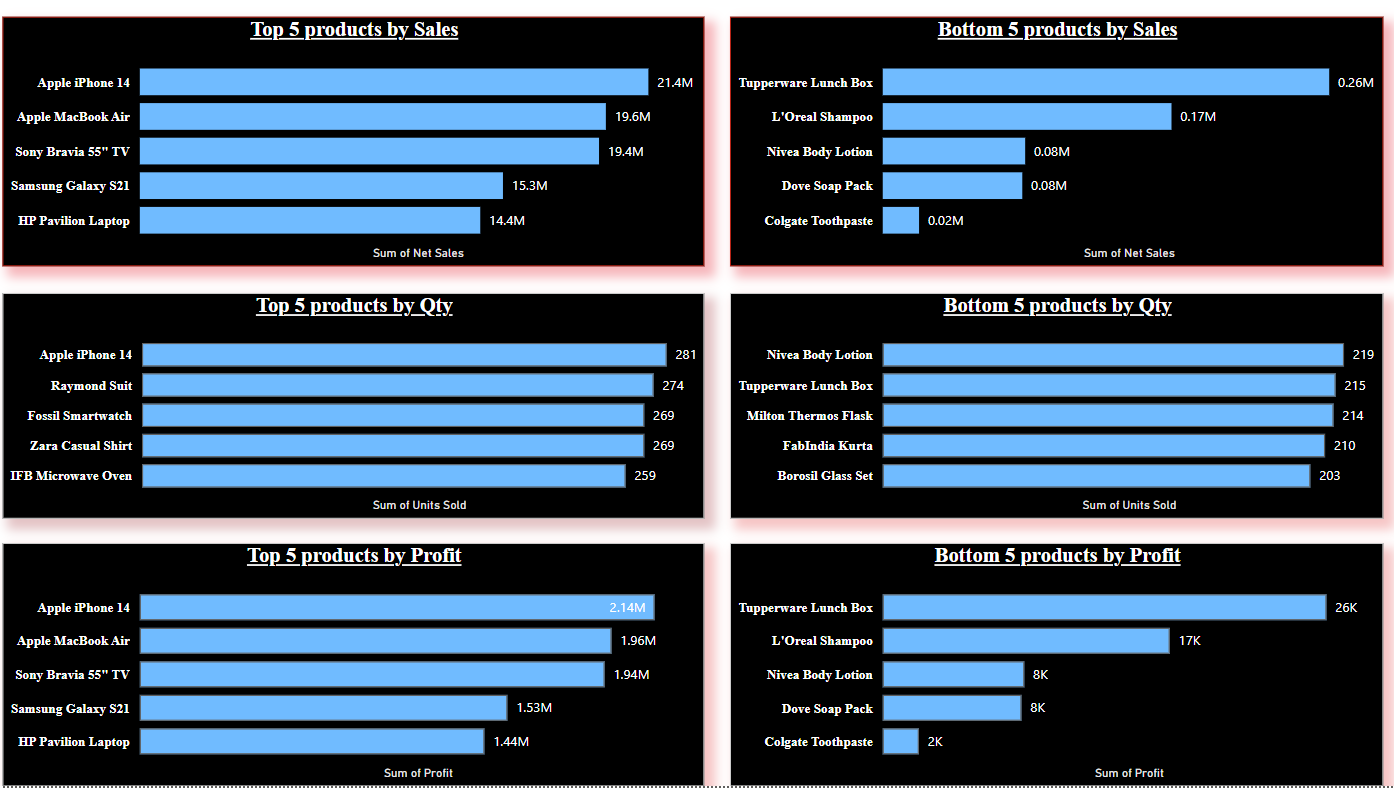

The page's visual inventory and layout, read from the dashboard file:
{"tool":"powerbi","page":{"name":"Top/Bottom 5 Analysis","canvas":[1280,720],"ordinal":1},"visuals":[{"type":"barChart","title":"Top 5 products by Sales","fields":{"Category":["Dim Product.Product Name"],"Y":["Sum(Fact Table.Net Sales  )"]},"box":[2.7,22,636.7,226.4],"z":0},{"type":"barChart","title":"Bottom 5 products by Sales","fields":{"Category":["Dim Product.Product Name"],"Y":["Sum(Fact Table.Net Sales  )"]},"box":[662.8,22,592.8,226.4],"z":1000},{"type":"barChart","title":"Top 5 products by Qty","fields":{"Category":["Dim Product.Product Name"],"Y":["Sum(Fact Table.Units Sold)"]},"box":[2.7,271.7,636.7,204.5],"z":2000},{"type":"barChart","title":"Bottom 5 products by Qty","fields":{"Category":["Dim Product.Product Name"],"Y":["Sum(Fact Table.Units Sold)"]},"box":[662.8,271.7,592.8,204.5],"z":3000},{"type":"barChart","title":"Top 5 products by Profit","fields":{"Category":["Dim Product.Product Name"],"Y":["Sum(Fact Table.Profit)"]},"box":[2.7,499.5,636.7,220.9],"z":4000},{"type":"barChart","title":"Bottom 5 products by Profit","fields":{"Category":["Dim Product.Product Name"],"Y":["Sum(Fact Table.Profit)"]},"box":[662.8,499.5,592.8,220.9],"z":5000}]}

Visuals, with their boxes in screenshot pixels (x1, y1, x2, y2), scaled from the page's 1280x720 canvas onto the 1394x789 screenshot:
"Top 5 products by Sales" barChart: <region>3, 24, 696, 272</region>
"Bottom 5 products by Sales" barChart: <region>722, 24, 1367, 272</region>
"Top 5 products by Qty" barChart: <region>3, 298, 696, 522</region>
"Bottom 5 products by Qty" barChart: <region>722, 298, 1367, 522</region>
"Top 5 products by Profit" barChart: <region>3, 547, 696, 788</region>
"Bottom 5 products by Profit" barChart: <region>722, 547, 1367, 788</region>
